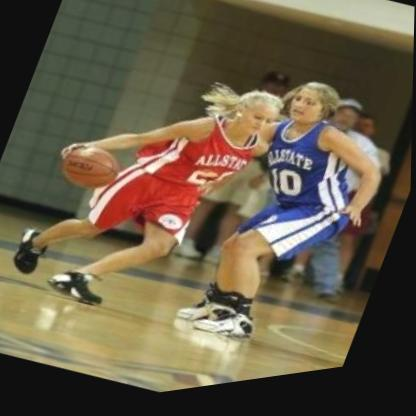basketball: (54, 129, 127, 206)
